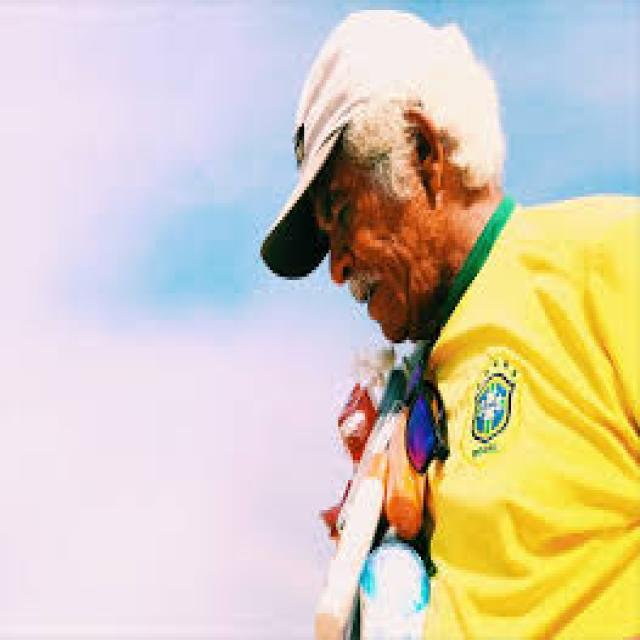cap: (256, 10, 494, 337)
